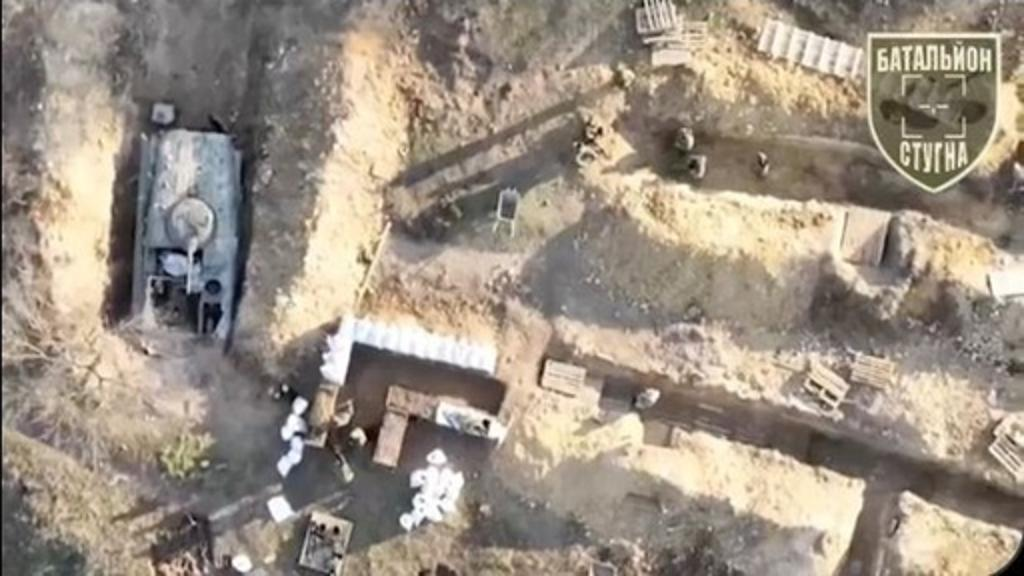APC-IFV: (124, 122, 240, 348)
